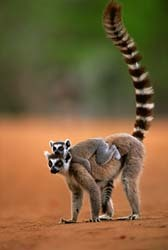cat: (42, 5, 155, 224)
